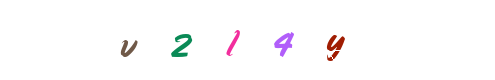2: (196, 0, 276, 80)
4: (218, 0, 298, 80)
L: (207, 0, 287, 80)
V: (141, 0, 221, 80)
Y: (239, 0, 319, 80)
